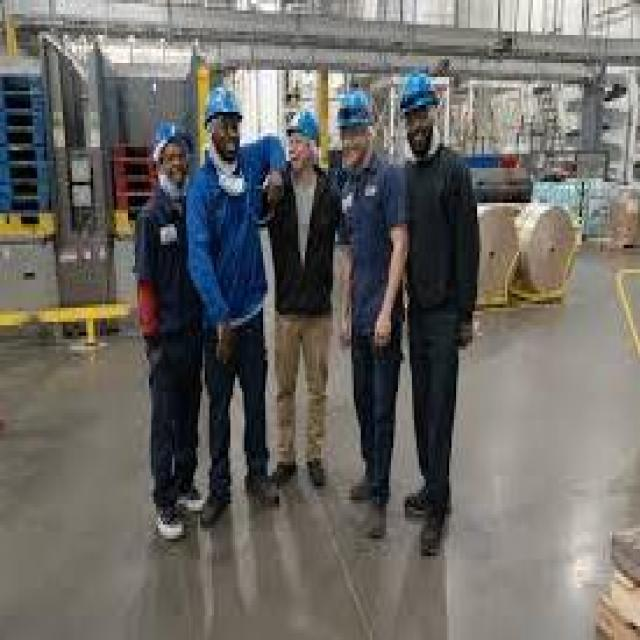Safety-Helmet: (391, 63, 444, 122), (328, 80, 379, 140), (200, 77, 249, 133), (279, 98, 326, 150)
